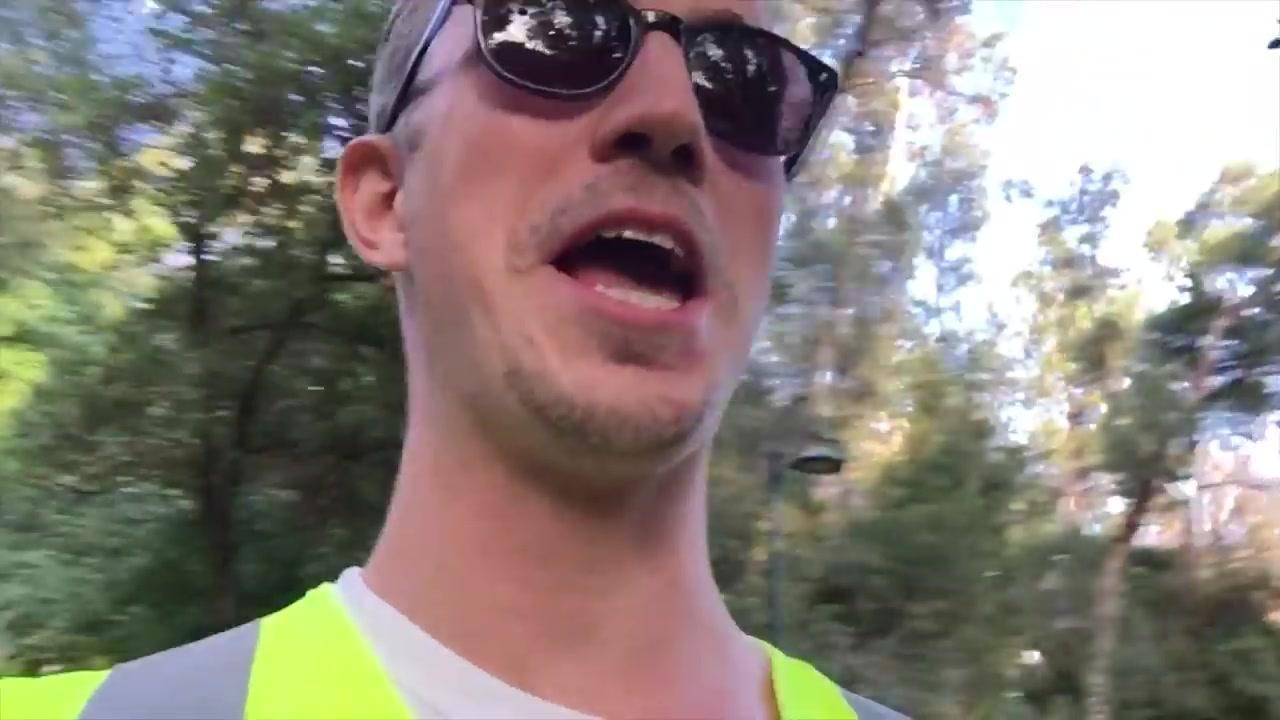vest: (0, 581, 915, 719)
